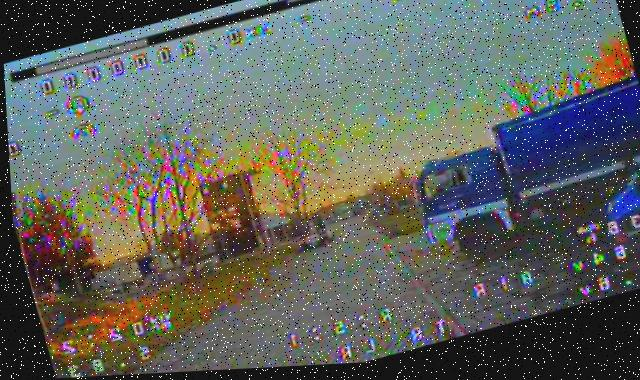car: (578, 157, 640, 291)
truck: (387, 73, 640, 281)
